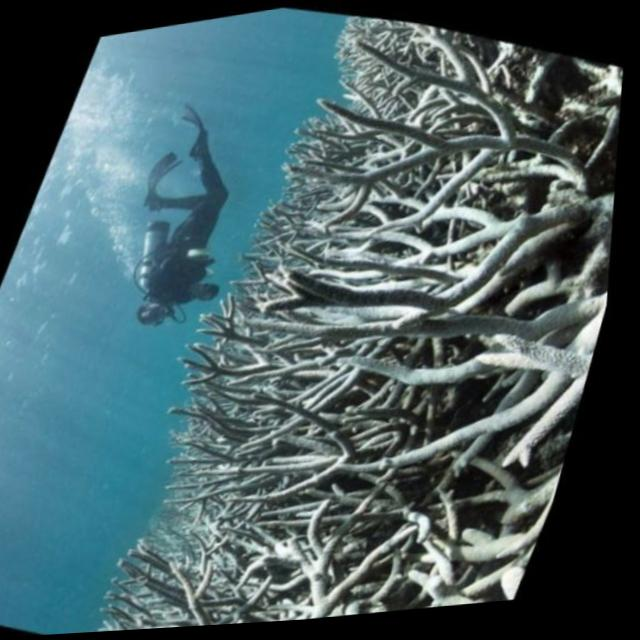Dead Coral: (73, 0, 640, 635)
